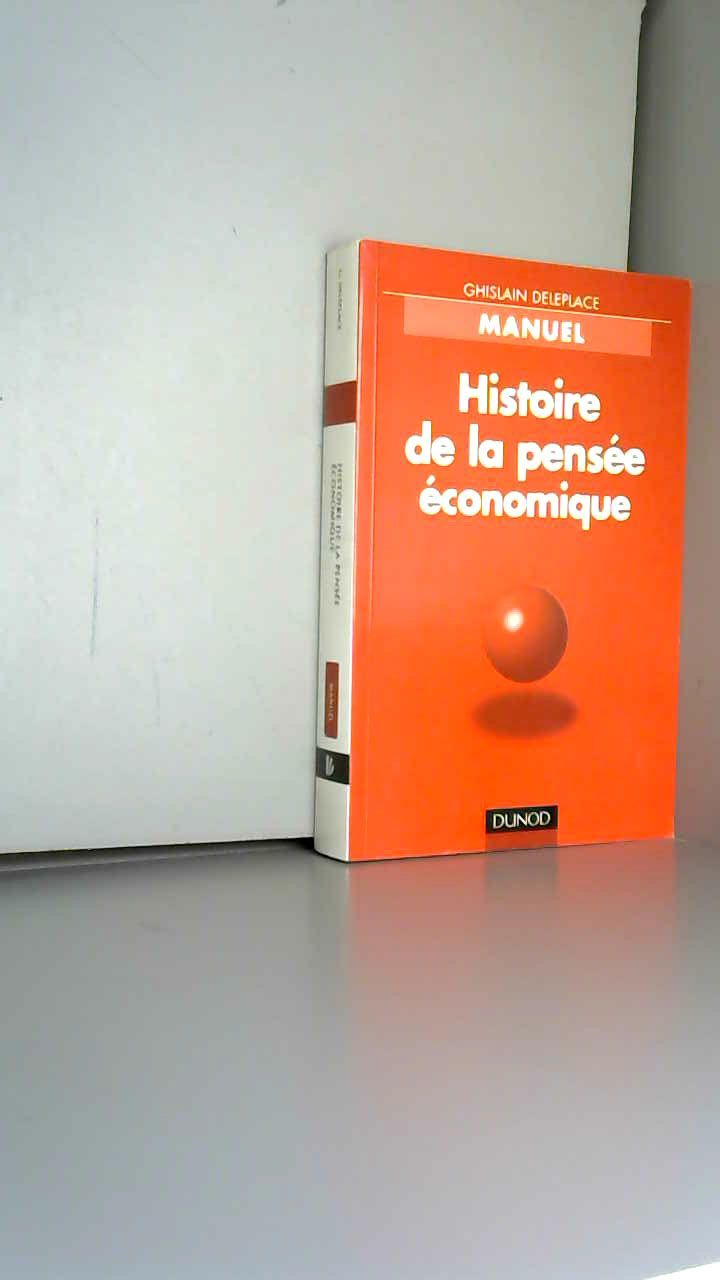book: (290, 220, 720, 905)
